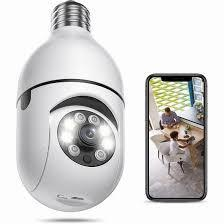maru: (15, 82, 125, 214)
